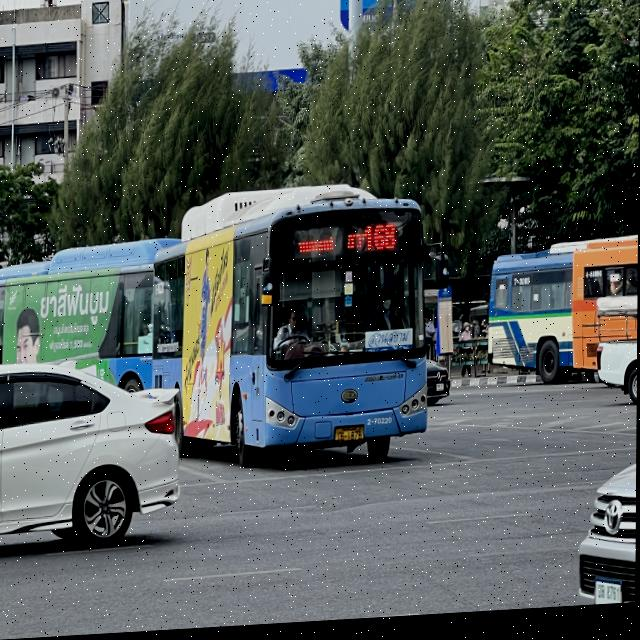BMTA-bus: (158, 183, 436, 475), (489, 248, 638, 396), (550, 244, 638, 383)
Bus-Line-Number: (362, 223, 399, 258)
Destination-Sign-Normal: (366, 333, 413, 358)
